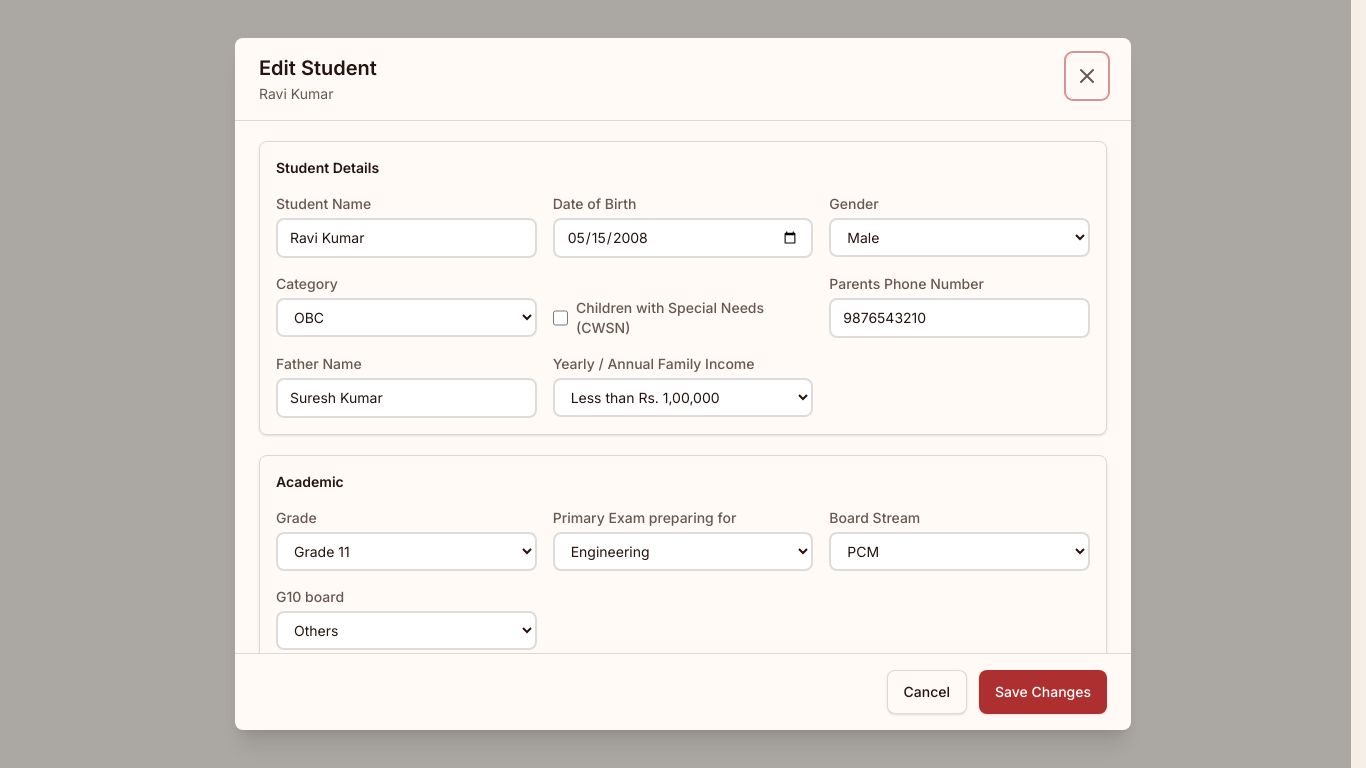
it: EditStudentModal › keeps invalid phone digits for approved validation
Step 1. Replace the text in the field labelled "Parents Phone Number" with "09999999999" → (960, 318), box [829,298,1090,338]
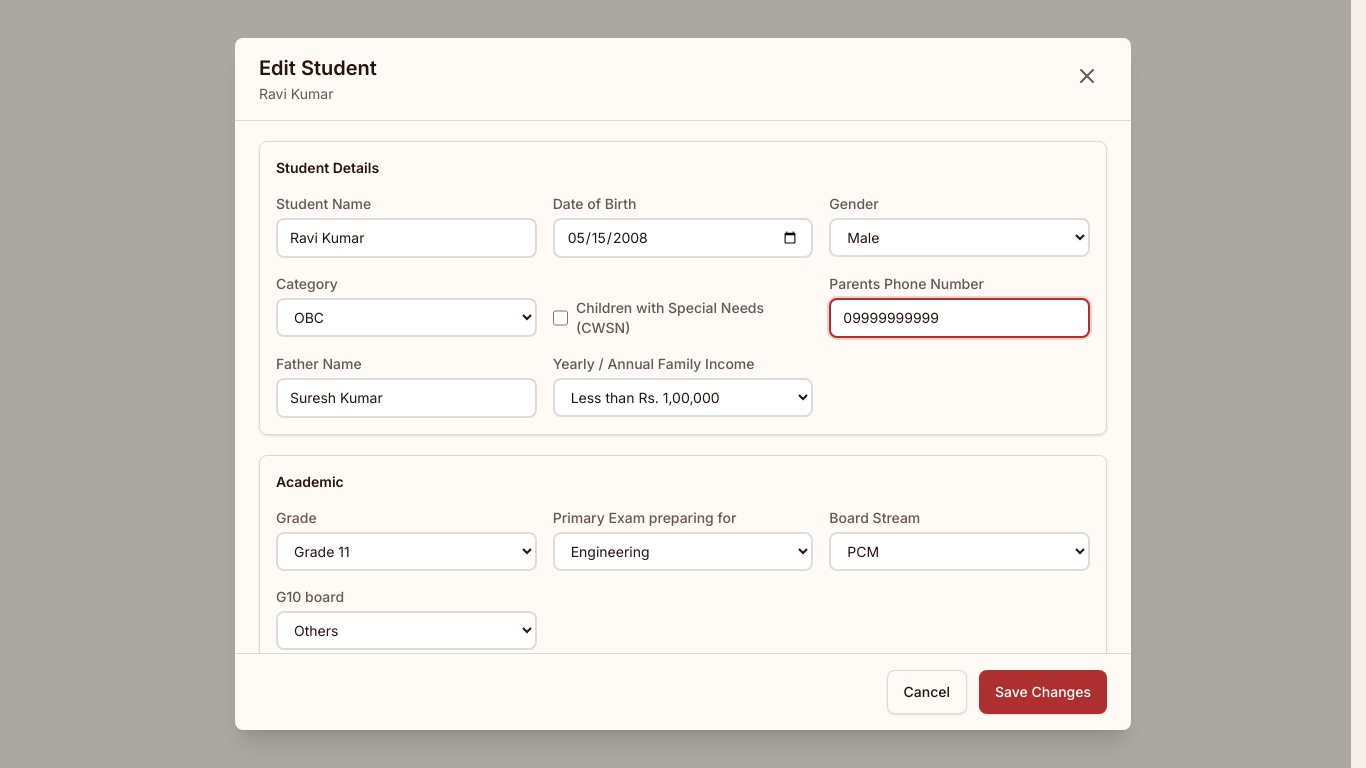
Step 2. Click the button "Save Changes" → (1043, 692), box [979,670,1107,714]
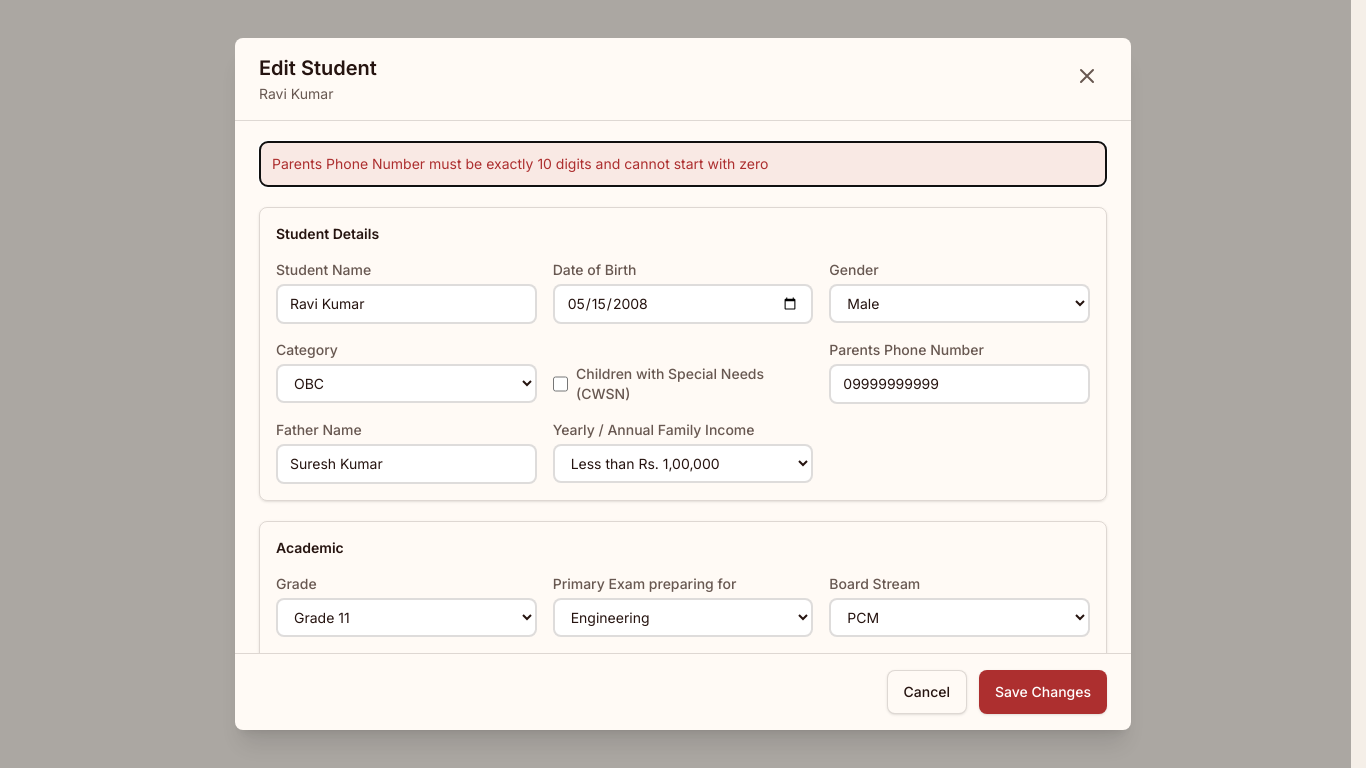
expect the text "Parents Phone Number must be exactly 10 digits and cannot start with zero" is shown: met, box [259,141,1107,187]
